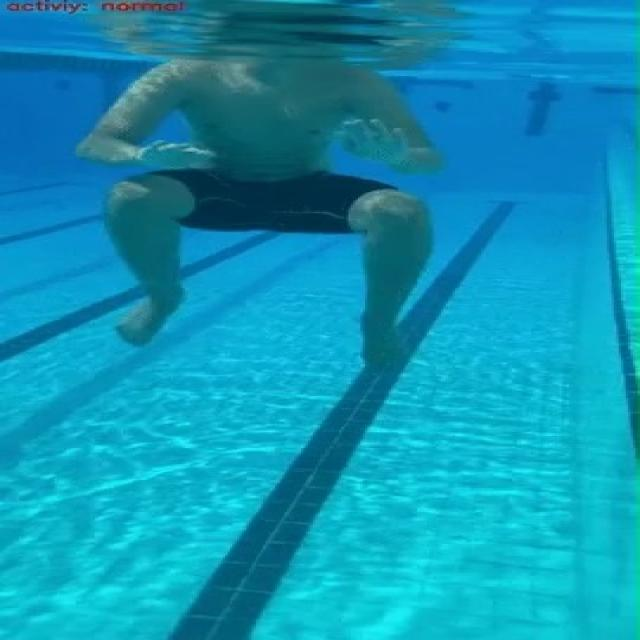Drowning: (71, 59, 447, 365)
